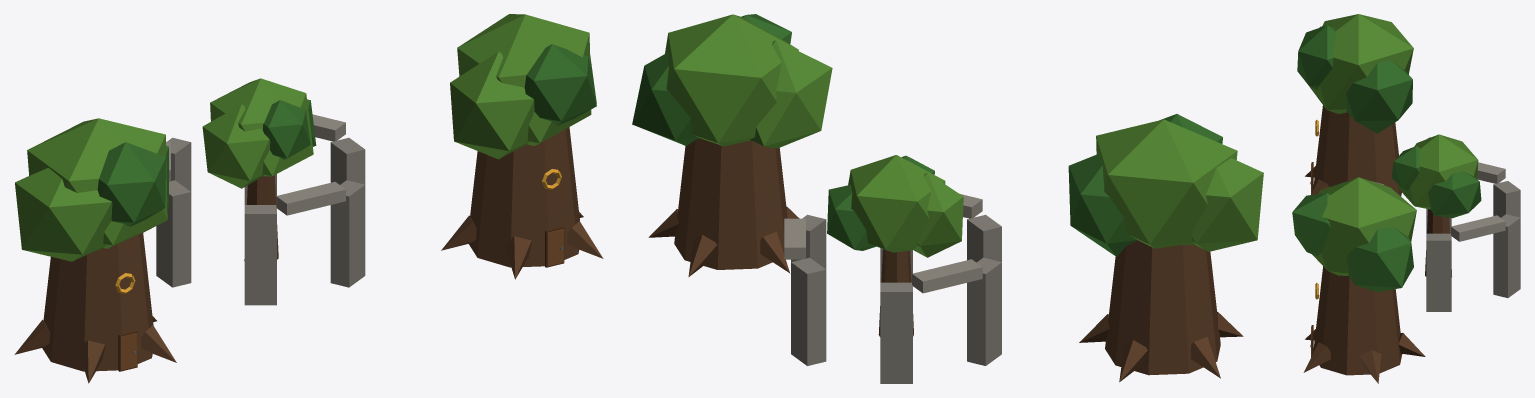
Rendered from treekin_court.glb.
3 renders of one model, left to right at view 1: azimuth 30°, elevation 25°; view 2: azimuth 150°, elevation 25°; view 3: azimuth 270°, elevation 25°, orthographic. The views are drawn at different scales.
Visible parts, largest first — view 1: treekin_court; view 2: treekin_court; view 3: treekin_court.
Part boxes in pixels (x1,y1,x2,y2): treekin_court: [14, 14, 603, 383]; treekin_court: [632, 14, 1263, 383]; treekin_court: [1292, 14, 1520, 383].
Bounding box in the file's own units: 6.61 × 2.47 × 2.84.
